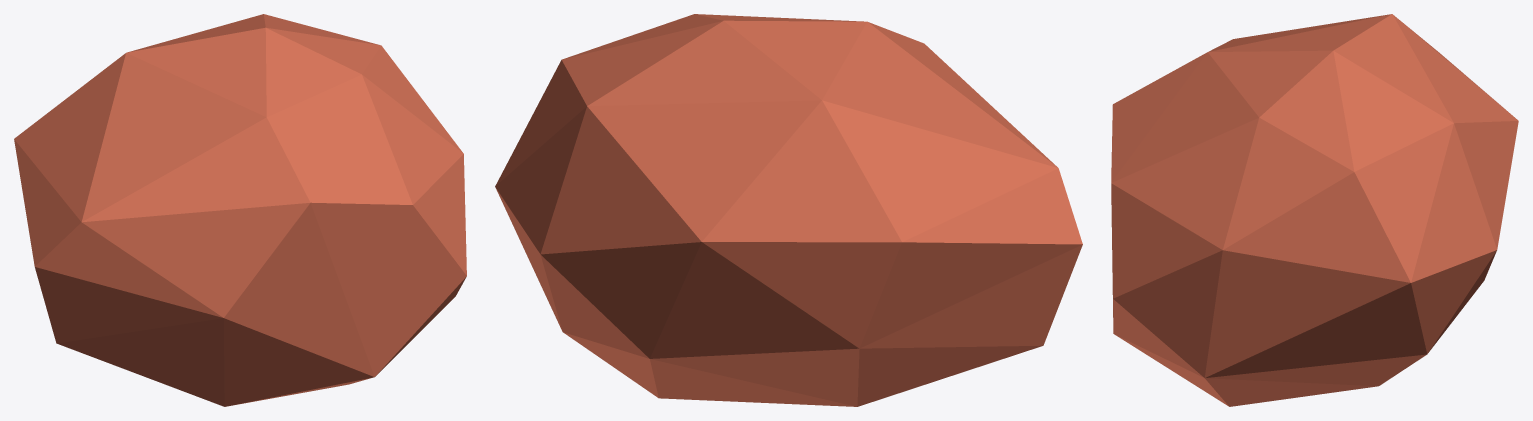
The model's file is stone_012.fbx.
3 views of the same model, side by side, from view 1: azimuth 30°, elevation 25°; view 2: azimuth 150°, elevation 25°; view 3: azimuth 270°, elevation 25° (orthographic). The views are drawn at different scales.
Visible parts, largest first — view 1: stone_012; view 2: stone_012; view 3: stone_012.
Part boxes in pixels (<box>): stone_012: <box>14,14,466,406</box>; stone_012: <box>495,14,1082,406</box>; stone_012: <box>1111,14,1518,406</box>.
Size of the model in its own units: 280 by 228 by 209.
